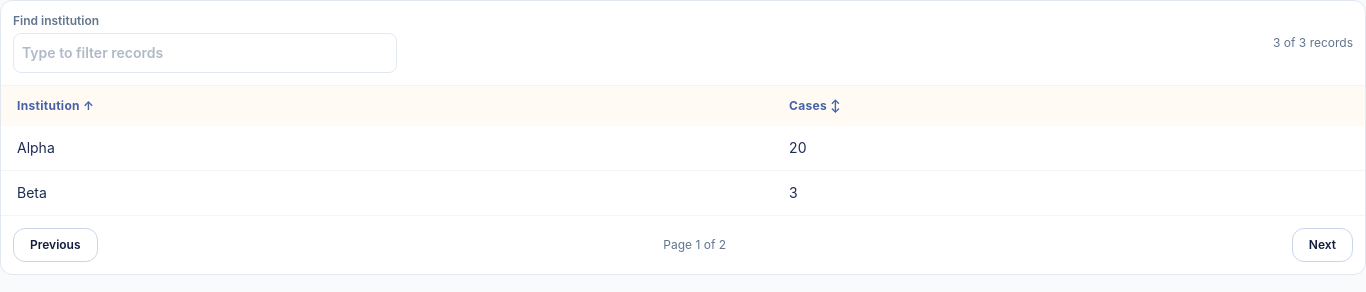
Test: report tables filter, sort numeric values, paginate and recover from empty results
expect the text "Gamma" is not shown: met
Click the button "Next": [1322, 245] box x1=1292 y1=228 x2=1353 y2=262
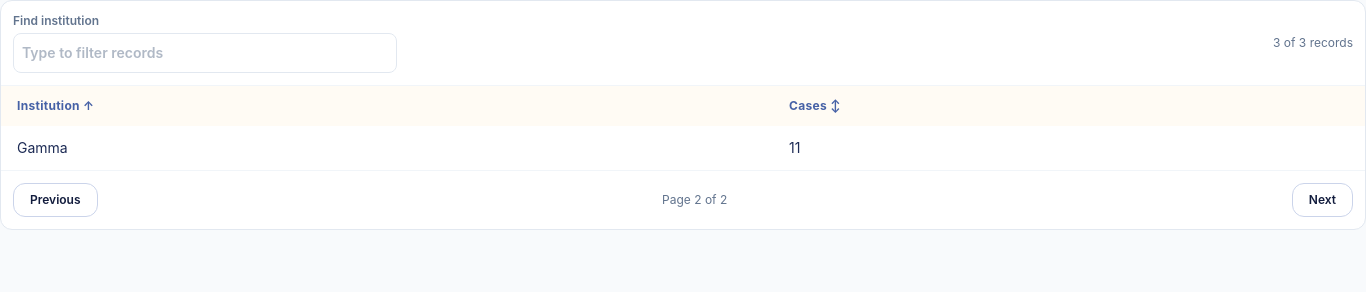
expect the text "Gamma" is shown: met, box x1=1 y1=126 x2=773 y2=170
Click the button "Cases ↕": [815, 106] box x1=789 y1=98 x2=841 y2=114
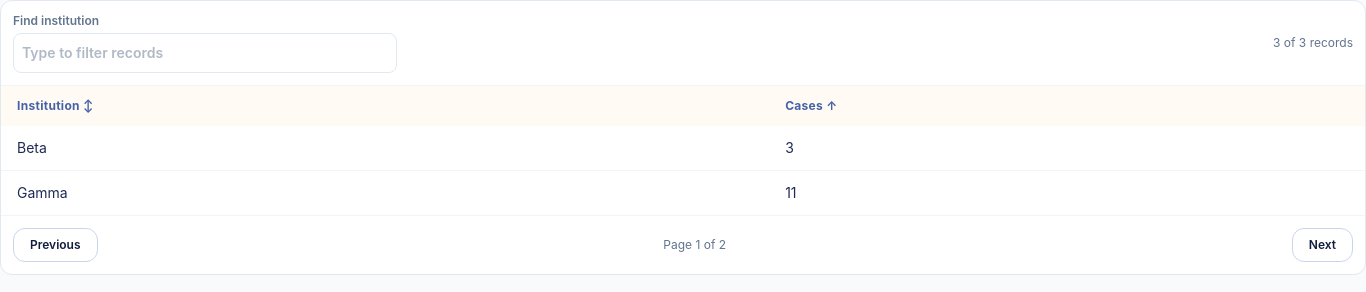
expect the row "Beta 3" is shown: met, box x1=1 y1=126 x2=1365 y2=170
In the field labelled "Find institution": [205, 53] box x1=13 y1=33 x2=397 y2=73, type "absent"
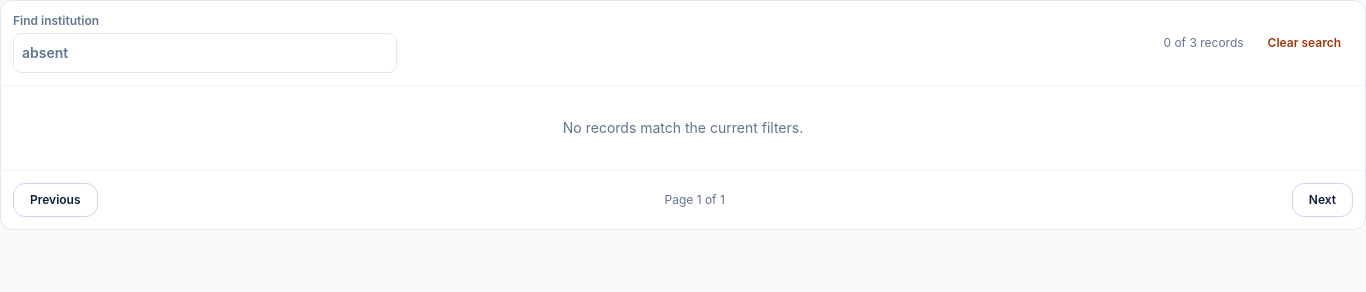
expect the text "No records match the current filters." is shown: met, box x1=563 y1=119 x2=803 y2=136
Click the button "Clear search": [1304, 43] box x1=1256 y1=27 x2=1353 y2=59
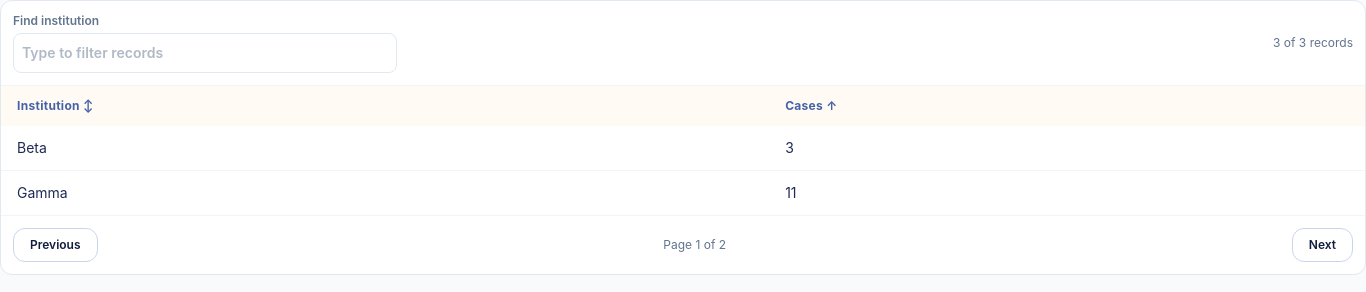
expect the text "Beta" is shown: met, box x1=1 y1=126 x2=769 y2=170
expect the text "Page 1 of 2" is shown: met, box x1=663 y1=237 x2=726 y2=253
